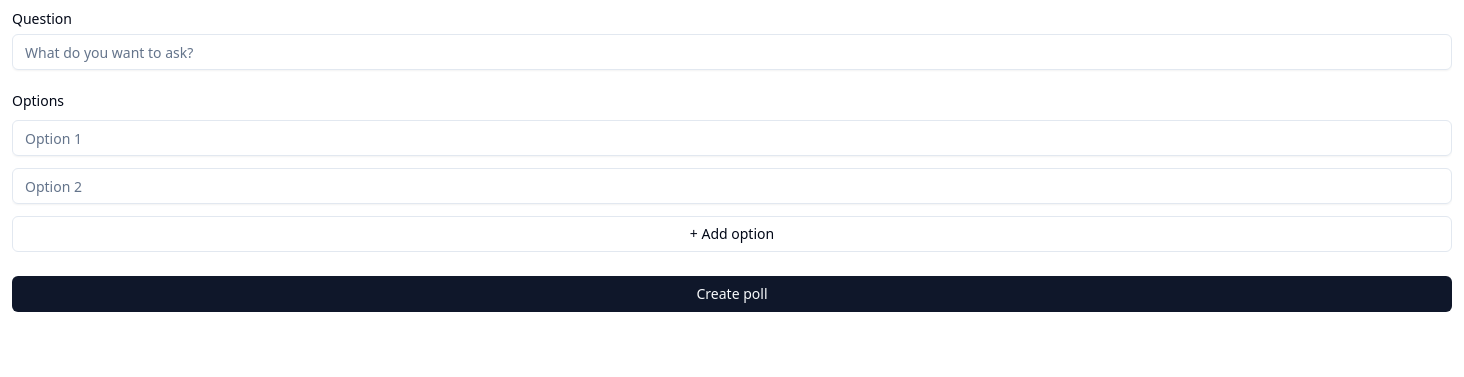
Scenario: PollForm › adding and removing options › removes an option when Remove is clicked
The width and height of the screenshot is (1464, 377).
Click the button "+ Add option".
click(732, 234)  # box x1=12 y1=216 x2=1452 y2=252
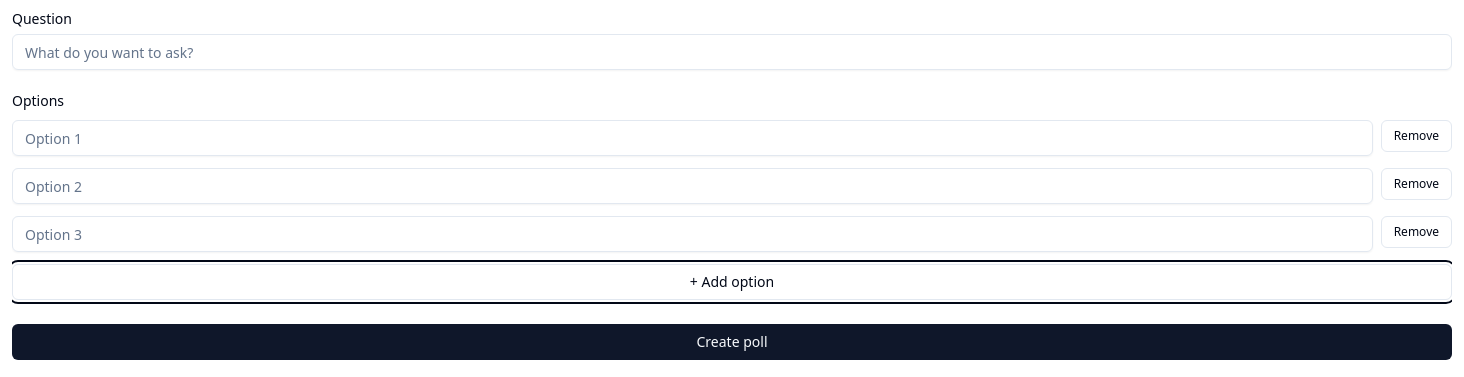
Click the 1st button "Remove".
click(1416, 136)  # box x1=1381 y1=120 x2=1452 y2=152
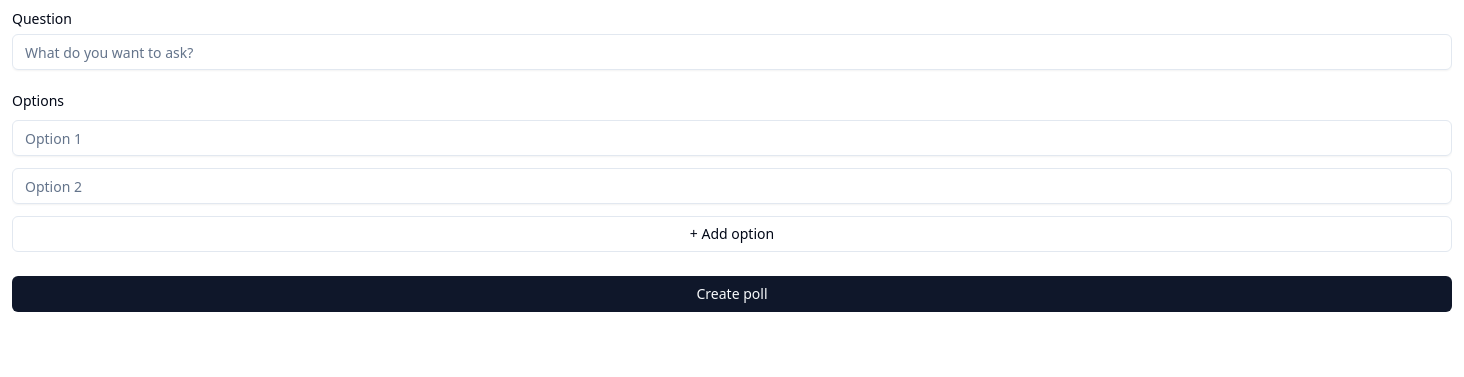
Expected: the number of fields with placeholder "Option 1" is 2, x1=12 y1=120 x2=1452 y2=156; x1=12 y1=168 x2=1452 y2=204
